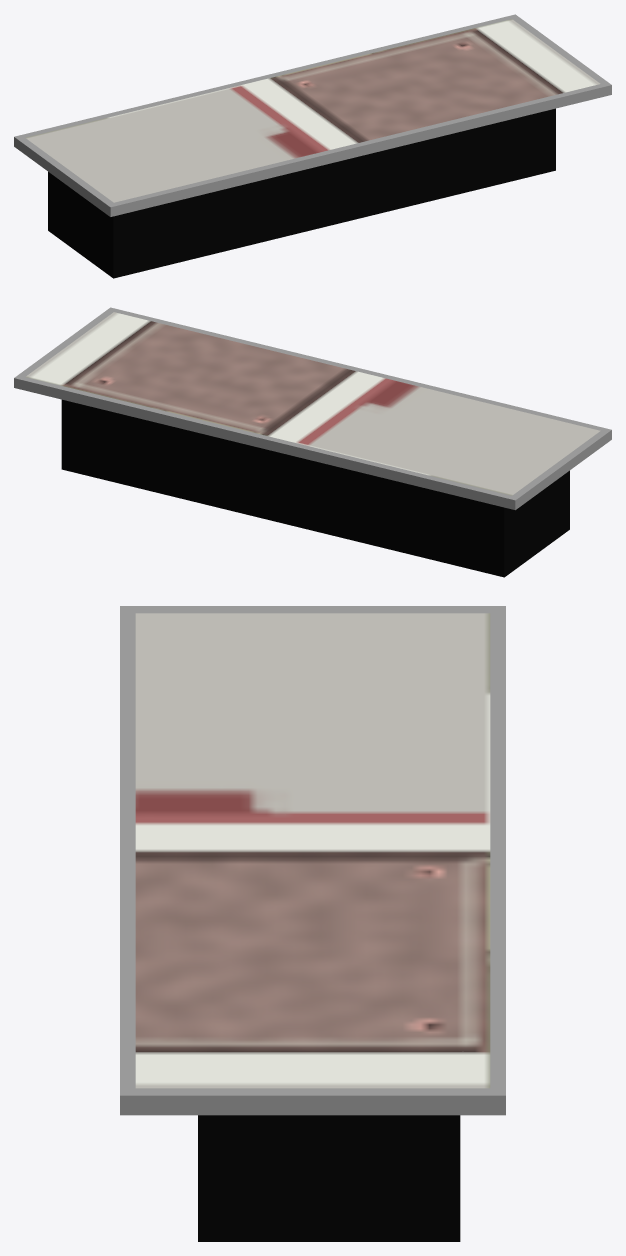
The model's file is SM_tableSingle.fbx.
3 renders of one model, top to bottom at view 1: azimuth 30°, elevation 25°; view 2: azimuth 150°, elevation 25°; view 3: azimuth 270°, elevation 25°, orthographic. The views are drawn at different scales.
Parts seen in each view (by area): view 1: pCube37, pCube40; view 2: pCube37, pCube40; view 3: pCube37, pCube40.
Part boxes in pixels (<box>): pCube37: <box>14,14,611,216</box>; pCube40: <box>48,108,555,278</box>; pCube37: <box>14,307,611,510</box>; pCube40: <box>61,399,569,577</box>; pCube37: <box>120,606,505,1115</box>; pCube40: <box>198,1115,460,1241</box>.
Bounding box in the file's own units: 300 × 52 × 100.
Materials: 3 (1 with a texture image).
